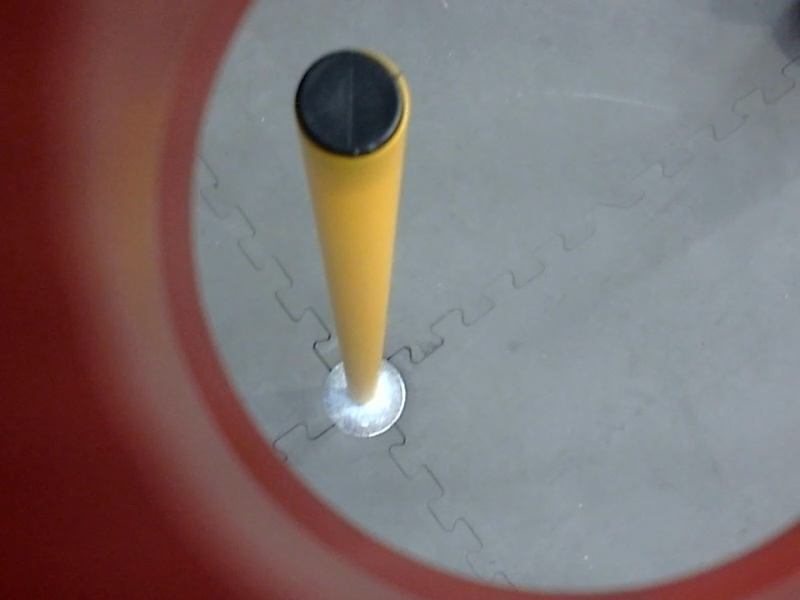tip: (284, 38, 419, 169)
